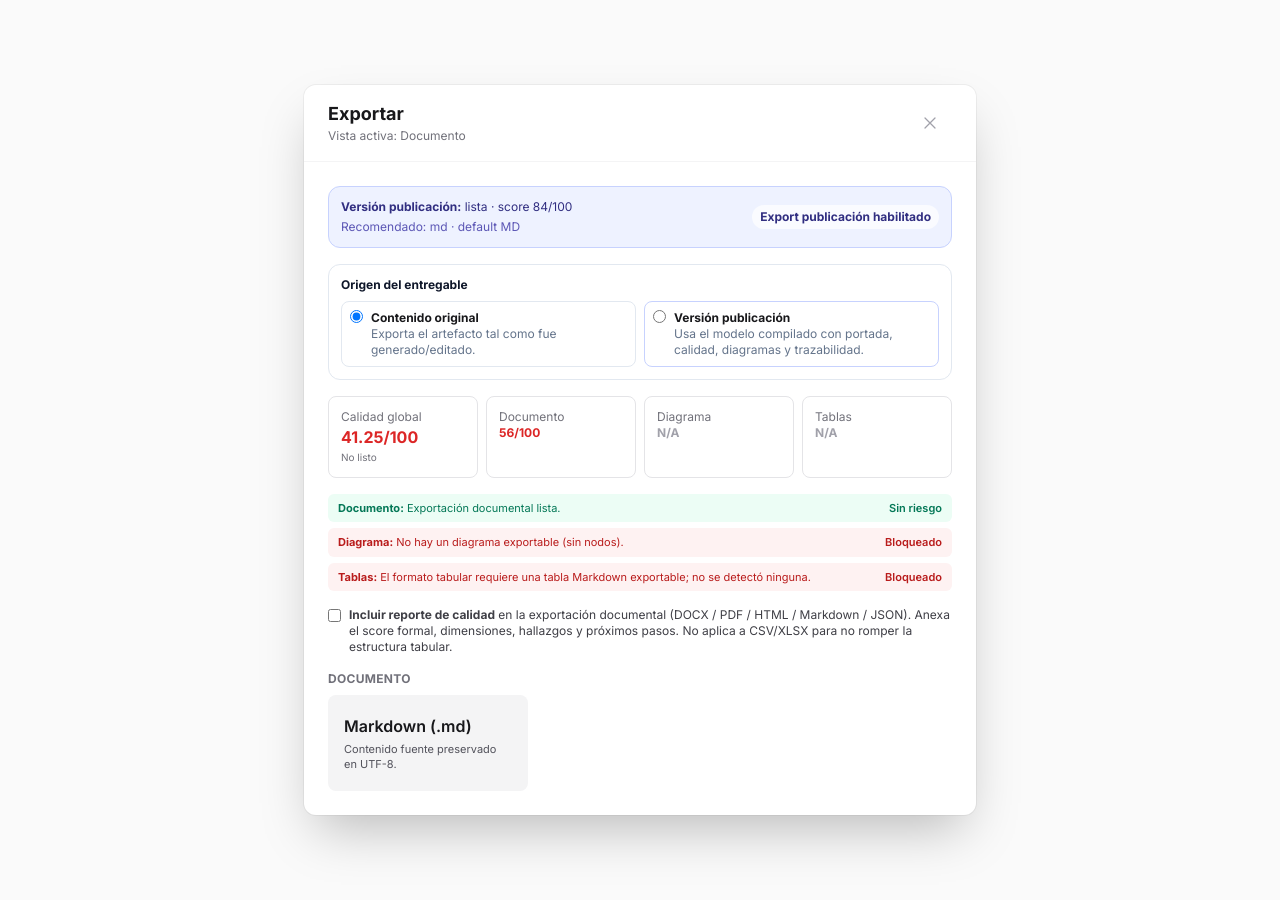
Test case: ArtifactExportModal — versión publicación › solicita confirmación al exportar una publicación con advertencias
Click the radio button labelled "Versión publicación" at (660, 316), box top-left (653, 310), bottom-right (666, 323)
(page scrolled)
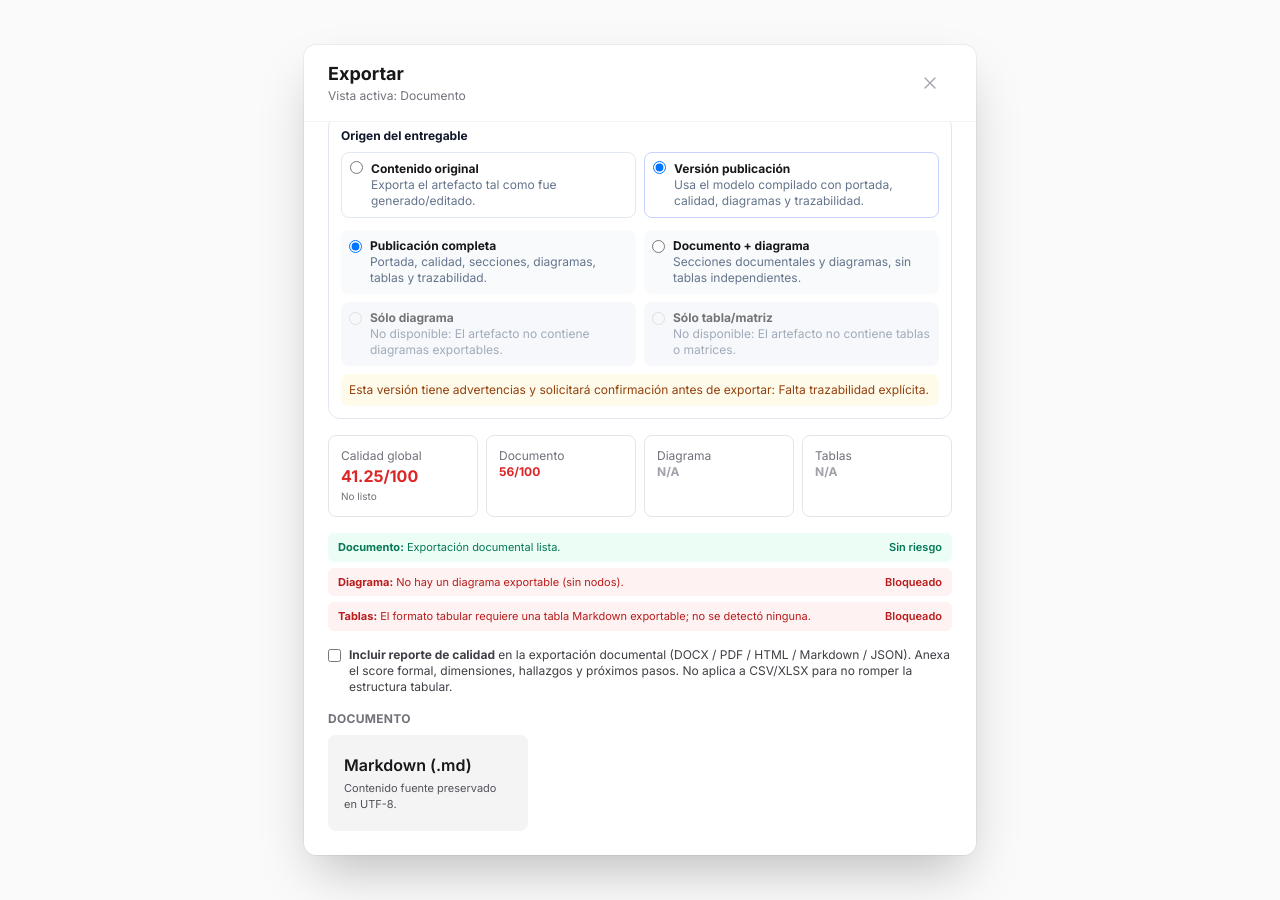
Click the button with aria-label "Exportar como Markdown" at (428, 782), box top-left (328, 734), bottom-right (528, 830)
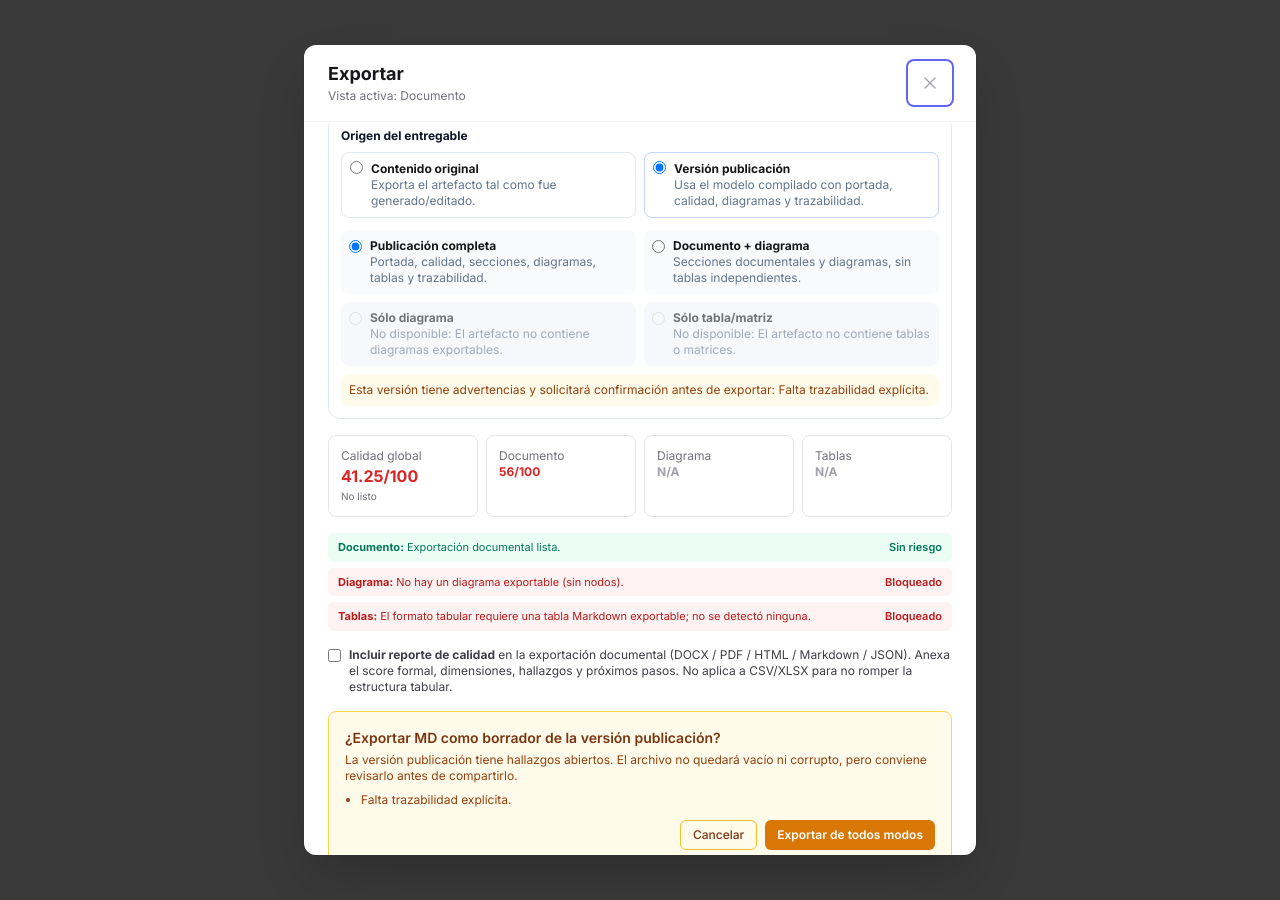
Now the dialog is shown, box top-left (328, 710), bottom-right (952, 855)
